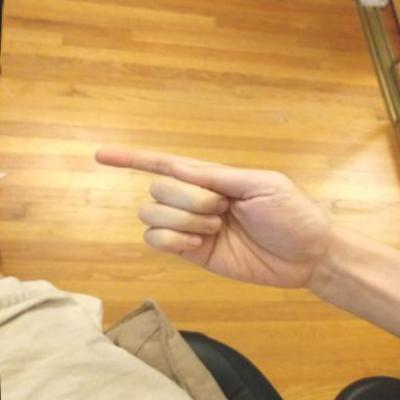hand: (80, 139, 341, 300)
